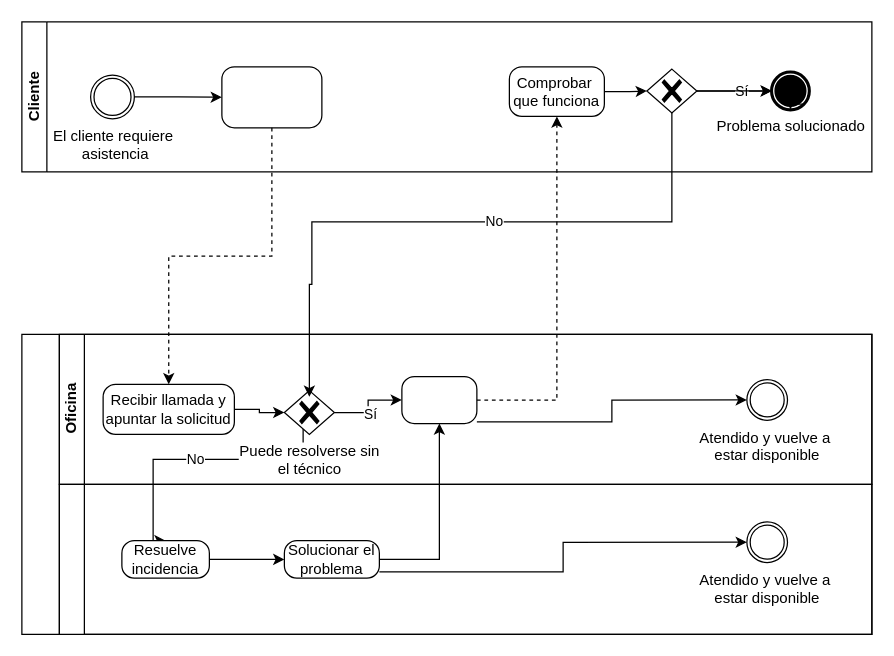
Some shapes in this 894 by 656 pixel diagram are drawn without their labels. The box of each missing label's shape, as (x1, y1, x2, y2) in pixels:
Dar una solución: (401, 375, 477, 424)
Funciona: (646, 68, 697, 113)
Llama a la empresa: (221, 66, 322, 128)
Servicio de atención al cliente: (21, 333, 872, 634)
Tecnico: (58, 483, 872, 634)
